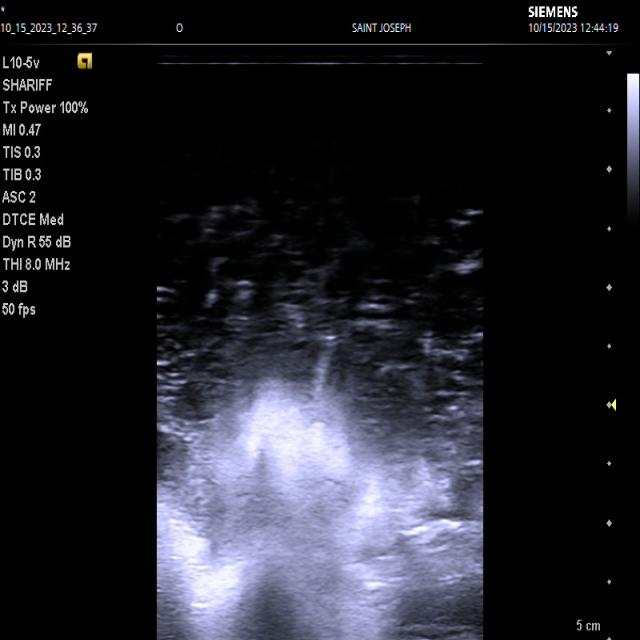tissue: (154, 358, 485, 640)
